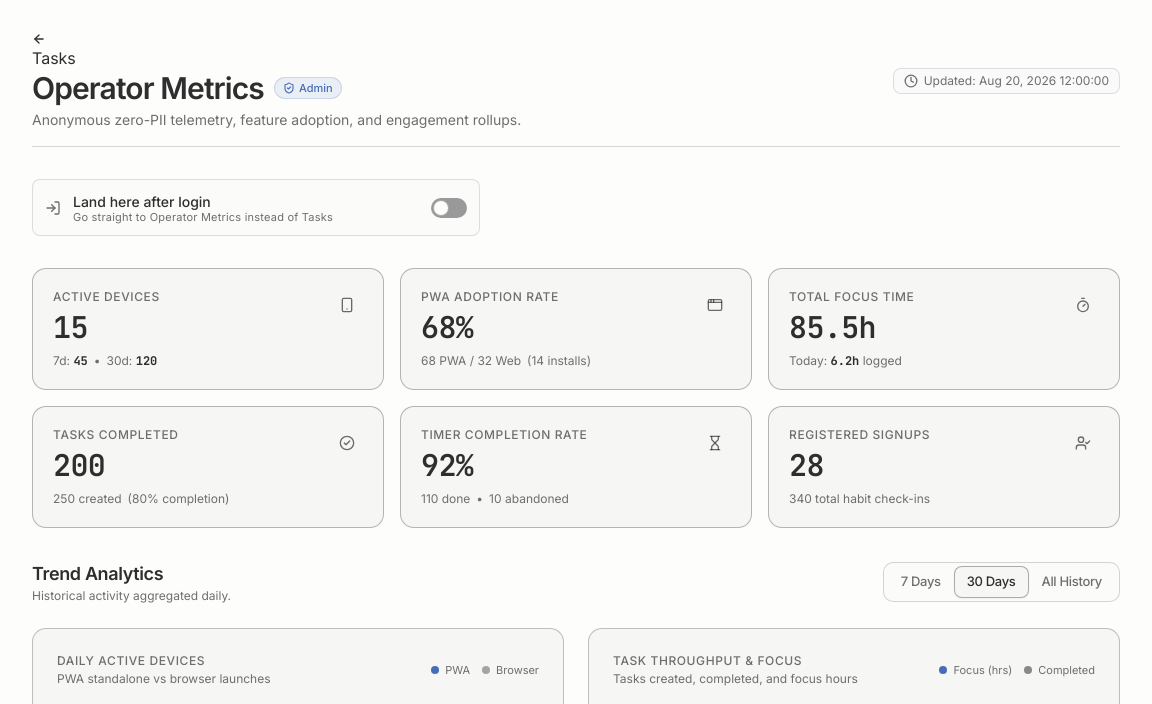
MetricsDashboard Component › allows switching time range tabs
The width and height of the screenshot is (1152, 704).
Check: the tab "30 Days" is shown, box 954,566 -> 1028,598
Check: the tab "All History" is shown, box 1028,566 -> 1115,598
Press the mouse on the tab "7 Days" at coordinates (921, 582), box 888,566 -> 954,598
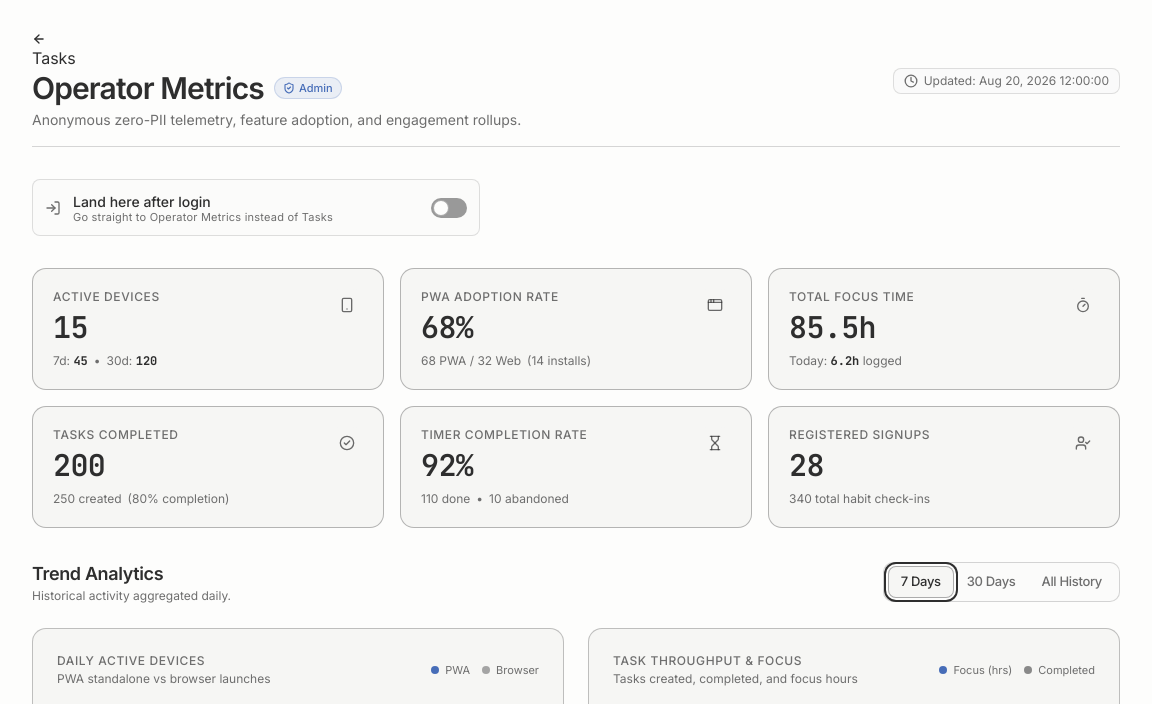
Check: the tab "7 Days" has attribute data-state="active", box 888,566 -> 954,598
